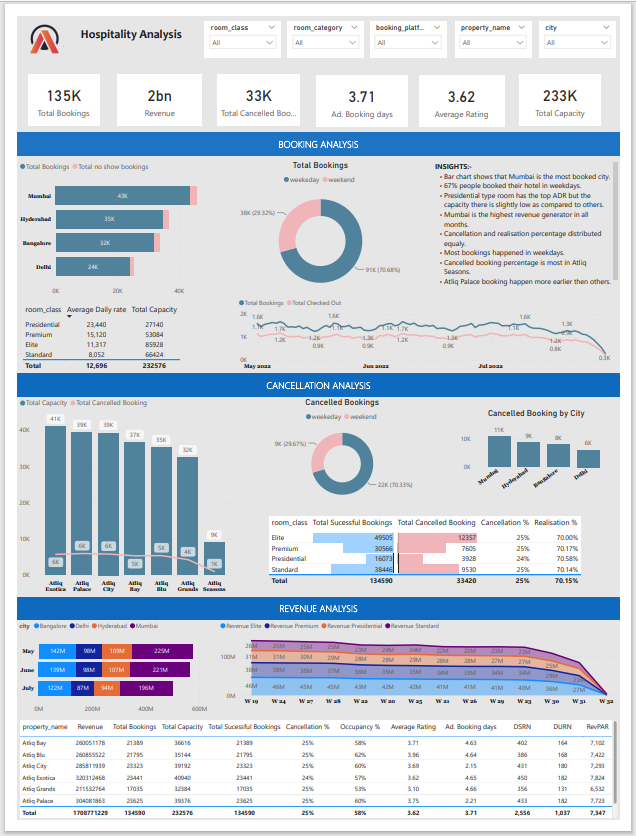

This screenshot's page, from the dashboard's own definition file:
{"tool":"powerbi","page":{"name":"Overall","canvas":[1200,1600],"ordinal":0},"visuals":[{"type":"barChart","fields":{"Category":["dim_hotels.city"],"Y":["measures (2).Total Bookings","measures (2).Total no show bookings"]},"box":[0,279,399,287],"z":0},{"type":"tableEx","fields":{"Values":["dim_hotels.property_name","measures (2).Revenue","measures (2).Total Bookings","measures (2).Total Capacity","measures (2).Total Sucessful Bookings","measures (2).Cancellation %","measures (2).Occupancy %","measures (2).Average Rating","measures (2).Average Advance Booking","measures (2).DSRN","measures (2).DURN","measures (2).RevPAR"]},"box":[0,1396.9,1200.2,204],"z":1000},{"type":"card","fields":{"Values":["measures (2).Revenue"]},"box":[200,116,169,103],"z":2000},{"type":"card","fields":{"Values":["measures (2).Total Bookings"]},"box":[22,116,142,103],"z":3000},{"type":"textbox","box":[0,232.4,1200.2,46.9],"z":4000},{"type":"textbox","box":[0,711.9,1200.2,45.8],"z":5000},{"type":"textbox","box":[0,1155.5,1200.2,45.8],"z":6000},{"type":"tableEx","fields":{"Values":["dim_rooms.room_class","measures (2).Average Daily rate","measures (2).Total Capacity"]},"box":[5.6,566.6,430.2,156.5],"z":7000},{"type":"lineChart","fields":{"Category":["dim_date.date.Variation.Date Hierarchy.Year","dim_date.date.Variation.Date Hierarchy.Quarter","dim_date.date.Variation.Date Hierarchy.Month","dim_date.date.Variation.Date Hierarchy.Day"],"Y":["measures (2).Total Bookings","measures (2).Total Checked Out"]},"box":[435.8,550.9,764.4,160.9],"z":8000},{"type":"donutChart","title":"Total Bookings","fields":{"Category":["dim_date.day_type"],"Y":["measures (2).Total Bookings"]},"box":[381,286,446,274],"z":9000},{"type":"textbox","box":[827,285,373,274],"z":10000},{"type":"card","fields":{"Values":["measures (2).Total Cancelled Booking"]},"box":[399,117,165,102],"z":11000},{"type":"lineClusteredColumnComboChart","fields":{"Category":["dim_hotels.property_name"],"Y2":["measures (2).Total Cancelled Booking"],"Y":["measures (2).Total Capacity"]},"box":[0,749.9,440.3,405.7],"z":12000},{"type":"donutChart","title":"Cancelled Bookings","fields":{"Category":["dim_date.day_type"],"Y":["measures (2).Total Cancelled Booking"]},"box":[440.3,757.7,414.6,216.8],"z":13000},{"type":"tableEx","fields":{"Values":["dim_rooms.room_class","measures (2).Total Sucessful Bookings","measures (2).Total Cancelled Booking","measures (2).Cancellation %","measures (2).Realisation %"]},"box":[496.2,991.2,677.2,164.3],"z":14000},{"type":"card","fields":{"Values":["measures (2).Avg Days Advance Booking"]},"box":[596,117,182,103],"z":15000},{"type":"columnChart","title":"Cancelled Booking by City","fields":{"Category":["dim_hotels.city"],"Y":["measures (2).Total Cancelled Booking"]},"box":[878.4,780,311.8,173.2],"z":16000},{"type":"card","fields":{"Values":["measures (2).Average Rating"]},"box":[800,117,170,103],"z":17000},{"type":"barChart","fields":{"Y":["measures (2).Revenue"],"Series":["dim_hotels.city"],"Category":["dim_date.mmm yy.Variation.Date Hierarchy.Month"]},"box":[0,1194,384,203],"z":18000},{"type":"stackedAreaChart","fields":{"Category":["dim_date.week no"],"Y":["measures (2).Revenue Elite","measures (2).Revenue Premium","measures (2).Revenue Presidential","measures (2).Revenue Standard"]},"box":[399,1193.5,801.3,185.5],"z":19000},{"type":"card","fields":{"Values":["measures (2).Total Capacity"]},"box":[1000,117,162,102],"z":20000},{"type":"slicer","fields":{"Values":["dim_rooms.room_class"]},"box":[373.3,10.1,153.1,71.5],"z":21000},{"type":"slicer","fields":{"Values":["fact_aggregated_bookings.room_category"]},"box":[537.5,10.1,153.1,71.5],"z":22000},{"type":"slicer","fields":{"Values":["fact_bookings.booking_platform"]},"box":[701.8,10.1,153.1,71.5],"z":23000},{"type":"slicer","fields":{"Values":["dim_hotels.property_name"]},"box":[870.6,10.1,153.1,71.5],"z":24000},{"type":"slicer","fields":{"Values":["dim_hotels.city"]},"box":[1039.3,10.1,153.1,71.5],"z":25000},{"type":"image","box":[0,0,103.3,91.5],"z":26000},{"type":"textbox","box":[93.5,9.8,268.6,58],"z":27000}]}

Visuals, with their boxes in screenshot pixels (x1, y1, x2, y2), scaled from the page's 1200x1600 canvas onto the 636x836 screenshot:
barChart - dim_hotels.city x measures (2).Total Bookings: (0, 146, 211, 296)
tableEx - dim_hotels.property_name x measures (2).Revenue: (0, 730, 635, 835)
card - measures (2).Revenue: (106, 61, 196, 114)
card - measures (2).Total Bookings: (12, 61, 87, 114)
textbox: (0, 121, 635, 146)
textbox: (0, 372, 635, 396)
textbox: (0, 604, 635, 628)
tableEx - dim_rooms.room_class x measures (2).Average Daily rate: (3, 296, 231, 378)
lineChart - dim_date.date.Variation.Date Hierarchy.Year x dim_date.date.Variation.Date Hierarchy.Quarter: (231, 288, 635, 372)
"Total Bookings" donutChart: (202, 149, 438, 293)
textbox: (438, 149, 635, 292)
card - measures (2).Total Cancelled Booking: (211, 61, 299, 114)
lineClusteredColumnComboChart - dim_hotels.property_name x measures (2).Total Cancelled Booking: (0, 392, 233, 604)
"Cancelled Bookings" donutChart: (233, 396, 453, 509)
tableEx - dim_rooms.room_class x measures (2).Total Sucessful Bookings: (263, 518, 622, 604)
card - measures (2).Avg Days Advance Booking: (316, 61, 412, 115)
"Cancelled Booking by City" columnChart: (466, 408, 631, 498)
card - measures (2).Average Rating: (424, 61, 514, 115)
barChart - measures (2).Revenue x dim_hotels.city: (0, 624, 204, 730)
stackedAreaChart - dim_date.week no x measures (2).Revenue Elite: (211, 624, 635, 721)
card - measures (2).Total Capacity: (530, 61, 616, 114)
slicer - dim_rooms.room_class: (198, 5, 279, 43)
slicer - fact_aggregated_bookings.room_category: (285, 5, 366, 43)
slicer - fact_bookings.booking_platform: (372, 5, 453, 43)
slicer - dim_hotels.property_name: (461, 5, 543, 43)
slicer - dim_hotels.city: (551, 5, 632, 43)
image: (0, 0, 55, 48)
textbox: (50, 5, 192, 35)
